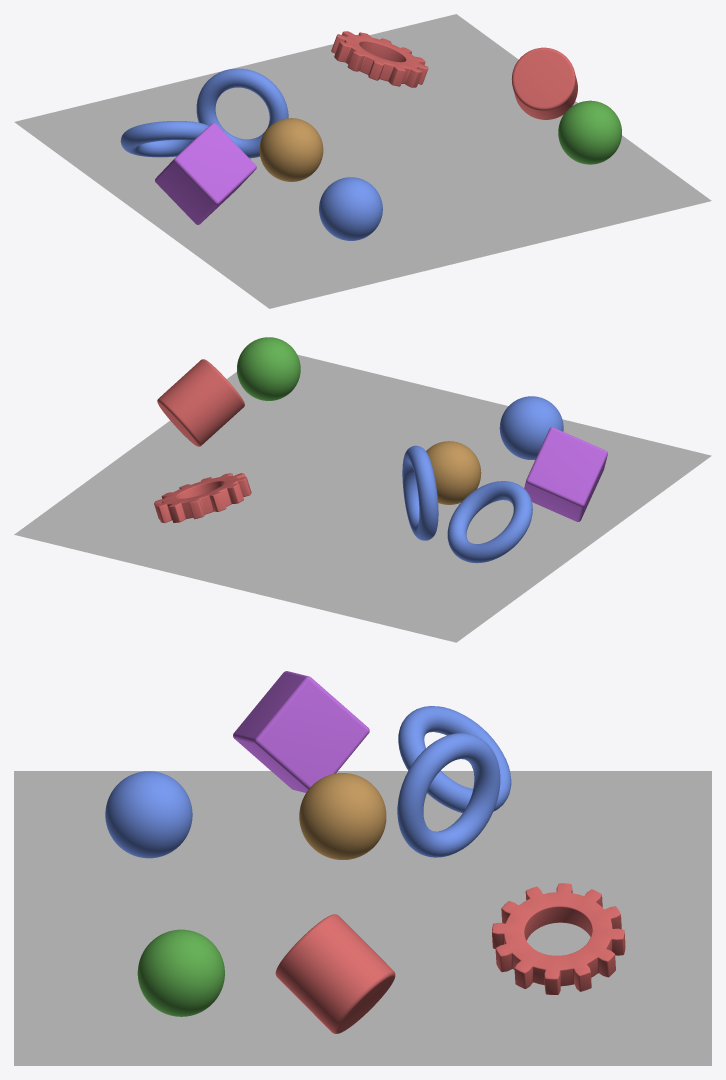
3 views of the same model, one above another, from view 1: azimuth 30°, elevation 25°; view 2: azimuth 150°, elevation 25°; view 3: azimuth 270°, elevation 25° (orthographic). The views are drawn at different scales.
Visible parts, largest first — view 1: Cube, FileBasedObject.005, FileBasedObject.002, FileBasedObject.001, FileBasedObject.004, FileBasedObject.006, FileBasedObject.003, FileBasedObject.007, FileBasedObject; view 2: Cube, FileBasedObject.005, FileBasedObject.002, FileBasedObject, FileBasedObject.003, FileBasedObject.001, FileBasedObject.004, FileBasedObject.007, FileBasedObject.006; view 3: Cube, FileBasedObject.005, FileBasedObject.001, FileBasedObject.002, FileBasedObject.007, FileBasedObject.004, FileBasedObject.003, FileBasedObject.006, FileBasedObject.
Boxes of the visible parts, bbox=[...] form: Cube: bbox=[14, 14, 711, 308]; FileBasedObject.005: bbox=[155, 122, 256, 224]; FileBasedObject.002: bbox=[511, 47, 577, 119]; FileBasedObject.001: bbox=[331, 31, 428, 87]; FileBasedObject.004: bbox=[319, 177, 382, 240]; FileBasedObject.006: bbox=[259, 118, 323, 181]; FileBasedObject.003: bbox=[558, 100, 621, 164]; FileBasedObject.007: bbox=[196, 68, 288, 158]; FileBasedObject: bbox=[120, 121, 208, 157]; Cube: bbox=[14, 354, 711, 642]; FileBasedObject.005: bbox=[524, 427, 607, 521]; FileBasedObject.002: bbox=[157, 359, 244, 446]; FileBasedObject: bbox=[447, 481, 532, 563]; FileBasedObject.003: bbox=[237, 337, 300, 400]; FileBasedObject.001: bbox=[154, 473, 251, 523]; FileBasedObject.004: bbox=[499, 396, 563, 459]; FileBasedObject.007: bbox=[402, 445, 438, 540]; FileBasedObject.006: bbox=[426, 441, 481, 504]; Cube: bbox=[14, 771, 711, 1065]; FileBasedObject.005: bbox=[233, 671, 369, 792]; FileBasedObject.001: bbox=[492, 883, 625, 994]; FileBasedObject.002: bbox=[275, 914, 395, 1033]; FileBasedObject.007: bbox=[397, 733, 500, 857]; FileBasedObject.004: bbox=[105, 771, 192, 858]; FileBasedObject.003: bbox=[137, 929, 224, 1016]; FileBasedObject.006: bbox=[299, 773, 386, 859]; FileBasedObject: bbox=[398, 706, 511, 813].
Bounding box in the file's own units: 8 × 1.63 × 8.
